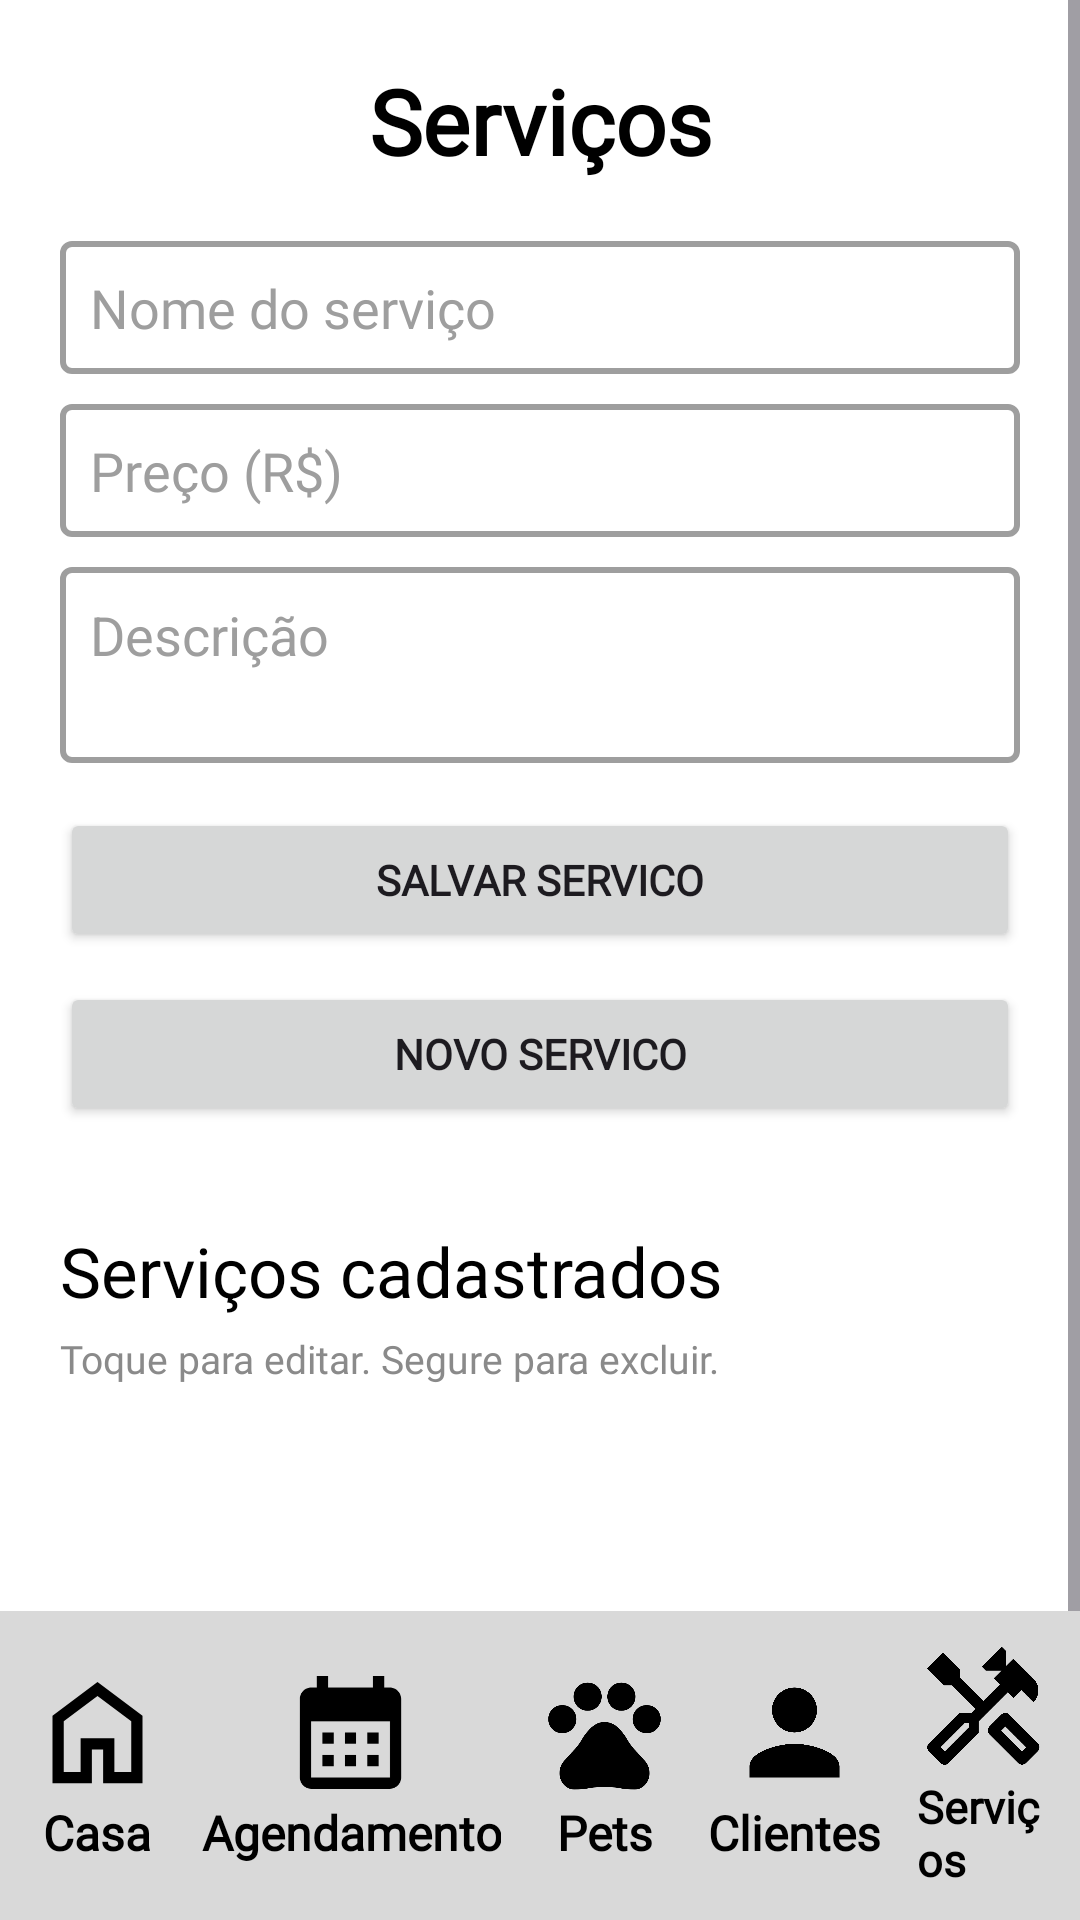

Screen size 1080w x 1920h. Icon name, then its center in pixels as [x,y]:
calendar month: [350,1732]
person: [794,1732]
